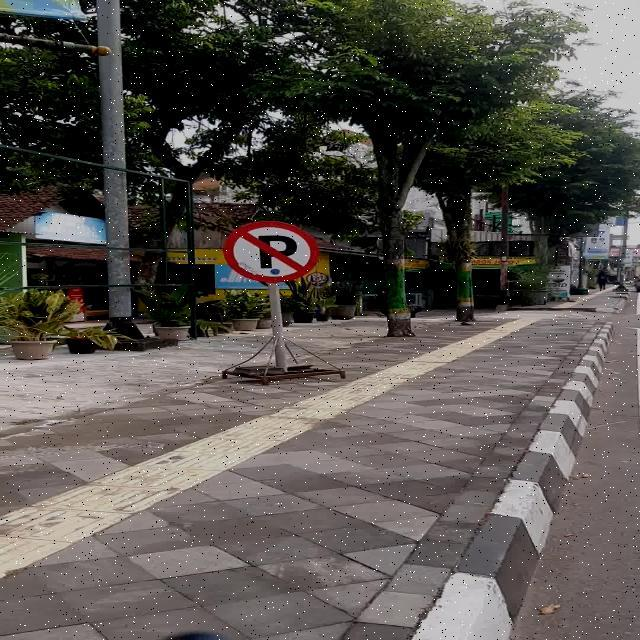Dilarang Parkir: (223, 220, 319, 282)
